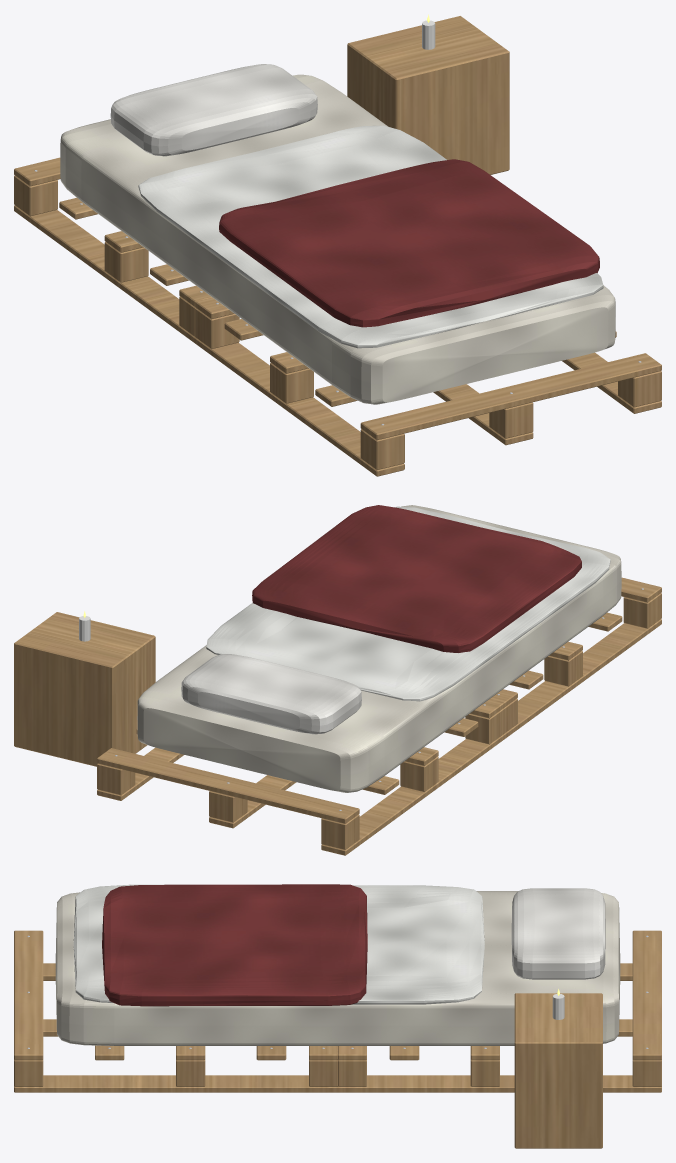
File: cama_pallet.glb
3 renders of one model, top to bottom at view 1: azimuth 30°, elevation 25°; view 2: azimuth 150°, elevation 25°; view 3: azimuth 270°, elevation 25°, orthographic. The views are drawn at different scales.
Visible parts, largest first — view 1: cama_pallet_madeira_crua, cama_pallet_cobertor, cama_pallet_colchao, cama_pallet_lencol, cama_pallet_travesseiro; view 2: cama_pallet_madeira_crua, cama_pallet_cobertor, cama_pallet_colchao, cama_pallet_lencol, cama_pallet_travesseiro; view 3: cama_pallet_madeira_crua, cama_pallet_cobertor, cama_pallet_colchao, cama_pallet_lencol, cama_pallet_travesseiro.
Boxes of the visible parts, left/top/right/bottom form: cama_pallet_madeira_crua: left=14, top=16, right=661, bottom=476; cama_pallet_cobertor: left=219, top=159, right=599, bottom=327; cama_pallet_colchao: left=60, top=74, right=615, bottom=404; cama_pallet_lencol: left=138, top=125, right=603, bottom=348; cama_pallet_travesseiro: left=110, top=64, right=317, bottom=156; cama_pallet_madeira_crua: left=14, top=577, right=661, bottom=855; cama_pallet_cobertor: left=252, top=505, right=581, bottom=652; cama_pallet_colchao: left=137, top=505, right=621, bottom=792; cama_pallet_lencol: left=206, top=506, right=610, bottom=701; cama_pallet_travesseiro: left=181, top=654, right=361, bottom=734; cama_pallet_madeira_crua: left=14, top=930, right=661, bottom=1148; cama_pallet_cobertor: left=102, top=884, right=367, bottom=1006; cama_pallet_colchao: left=55, top=891, right=620, bottom=1045; cama_pallet_lencol: left=73, top=884, right=484, bottom=1004; cama_pallet_travesseiro: left=511, top=888, right=605, bottom=979.
Bounding box in the file's own units: 1.45 × 0.51 × 2.2.
8 materials, 5 textured.
